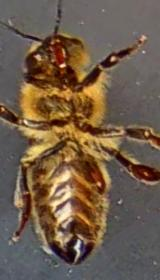varroa_mite: (89, 162, 110, 196)
